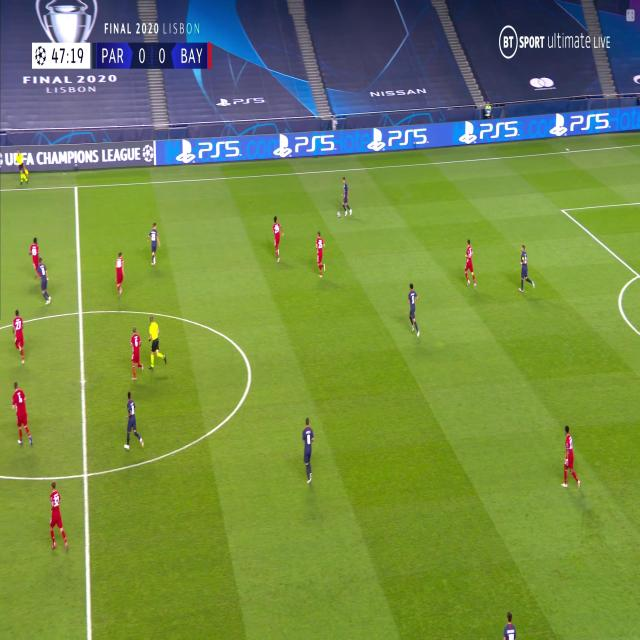ball: (337, 210, 341, 217)
player: (46, 481, 71, 554), (10, 381, 34, 447), (560, 424, 581, 491), (122, 390, 144, 452), (146, 315, 166, 369), (300, 417, 315, 486), (128, 326, 144, 379), (518, 243, 534, 293), (406, 281, 420, 337), (34, 254, 50, 303), (12, 308, 26, 362), (463, 238, 477, 288), (28, 238, 43, 283), (270, 215, 284, 262), (338, 175, 352, 218), (314, 230, 326, 278), (148, 222, 159, 268), (114, 250, 125, 296), (15, 151, 29, 186), (502, 610, 517, 640)
